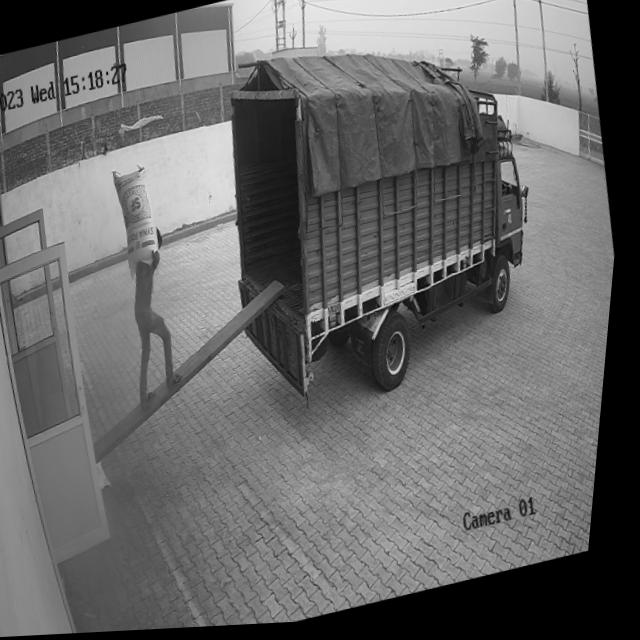sack: (107, 162, 176, 283)
